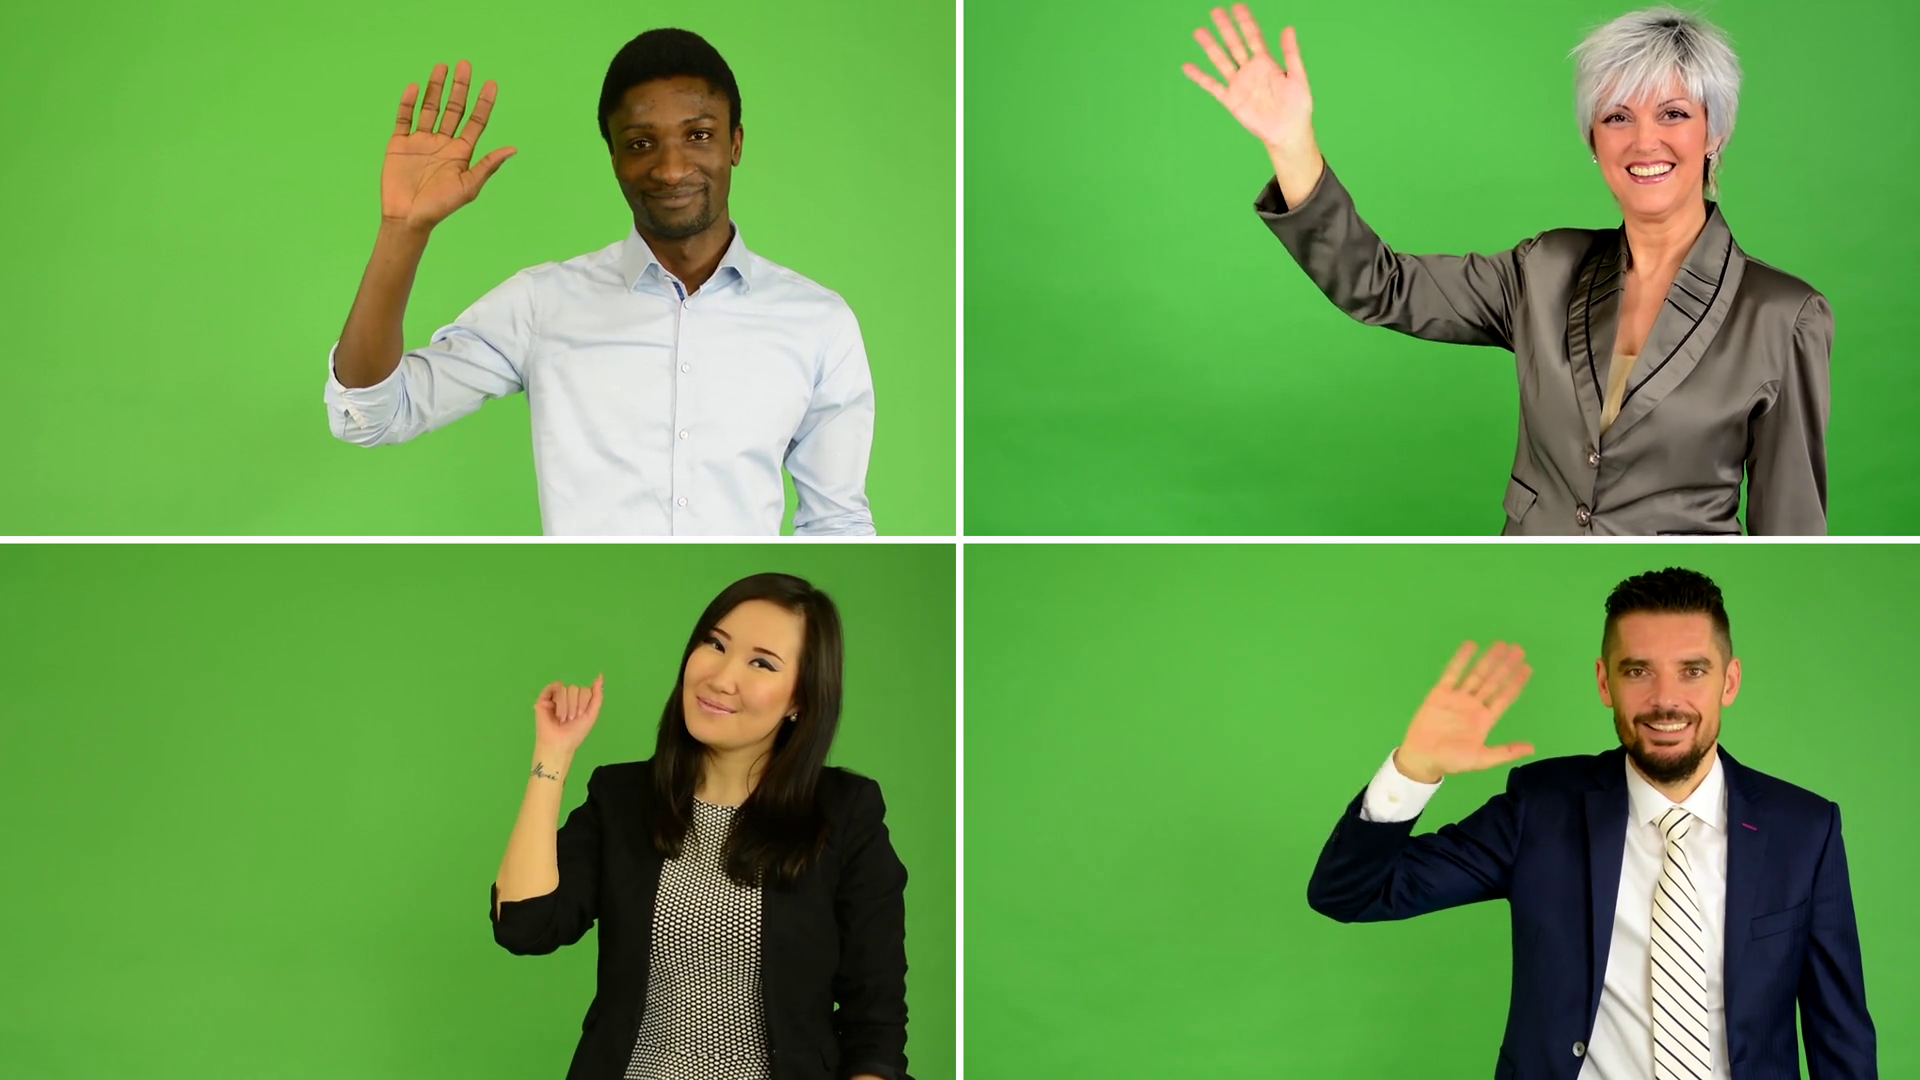open_hand: (356, 45, 531, 229), (1374, 611, 1551, 791), (1155, 7, 1346, 156)
